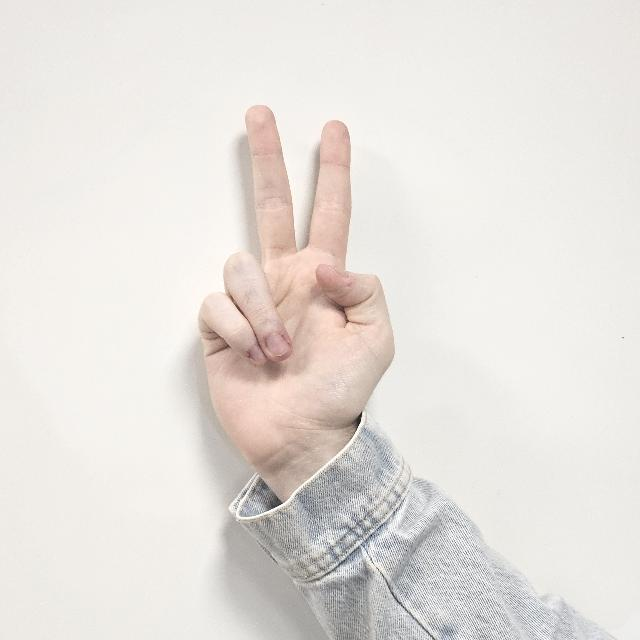Triangulo: (192, 103, 398, 470)
